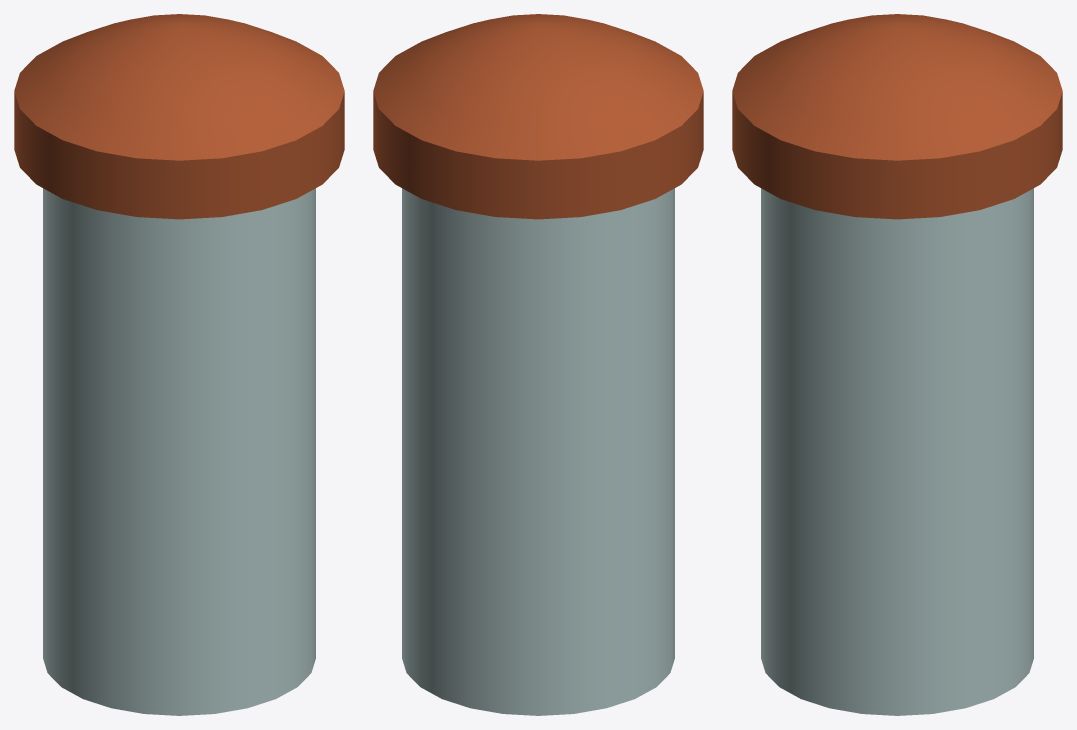
File: decor_flask1.fbx
3 renders of one model, left to right at view 1: azimuth 30°, elevation 25°; view 2: azimuth 150°, elevation 25°; view 3: azimuth 270°, elevation 25°, orthographic.
Visible parts, largest first — view 1: decor_flask1; view 2: decor_flask1; view 3: decor_flask1.
Part boxes in pixels (x1,y1,x2,y2): decor_flask1: [14, 14, 344, 715]; decor_flask1: [373, 14, 703, 715]; decor_flask1: [732, 14, 1062, 715].
Size of the model in its own units: 9.39 by 19.81 by 9.39.
